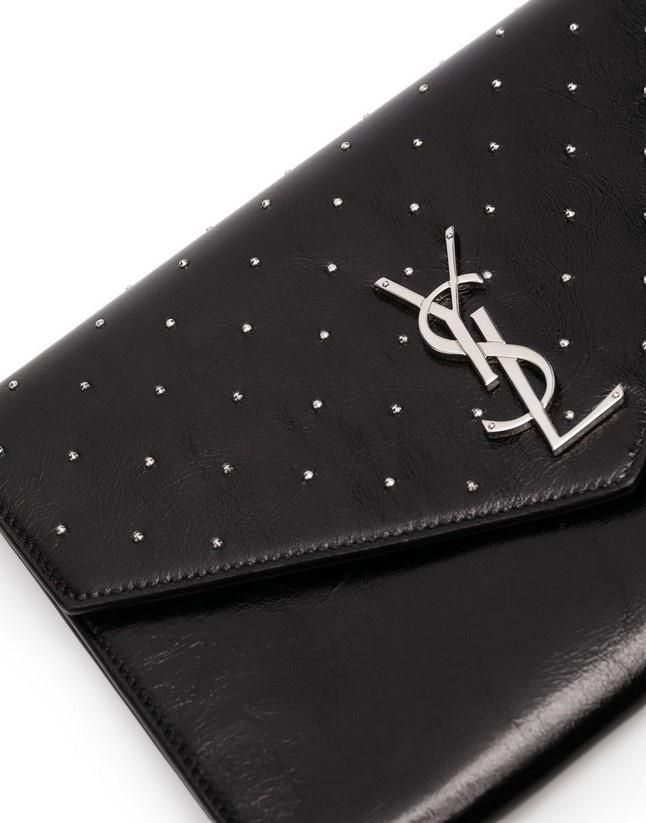YVES-SAINT-LAURENT: (373, 225, 626, 456)
